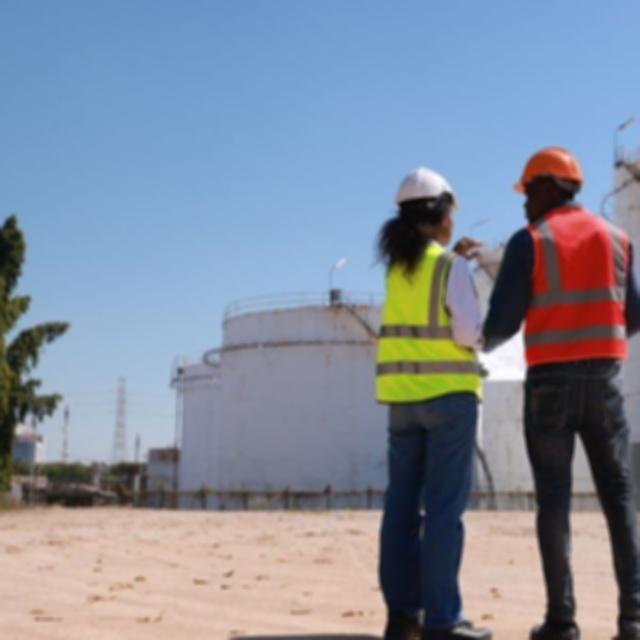Con_Casco: (514, 147, 585, 223)
Con_Chaleco: (369, 245, 485, 405), (518, 210, 634, 366)
